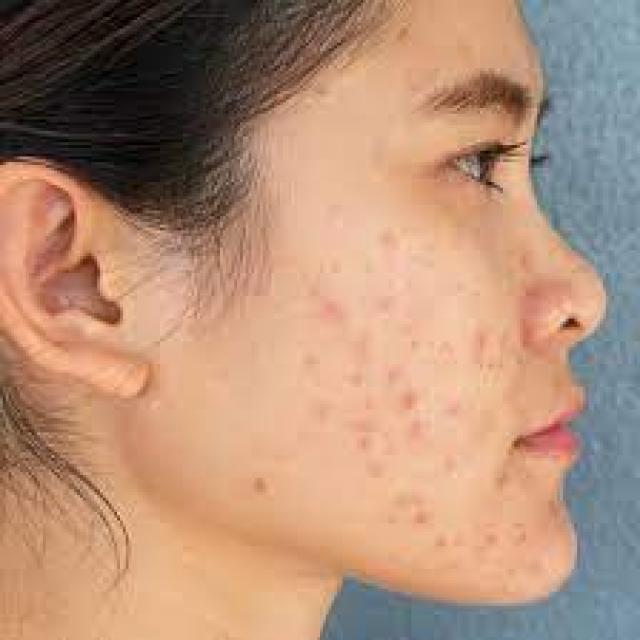Acne: (470, 321, 498, 361), (439, 389, 467, 423), (403, 416, 431, 446), (348, 416, 384, 438), (357, 389, 384, 417), (409, 503, 434, 531), (320, 296, 345, 322), (398, 387, 421, 411)
